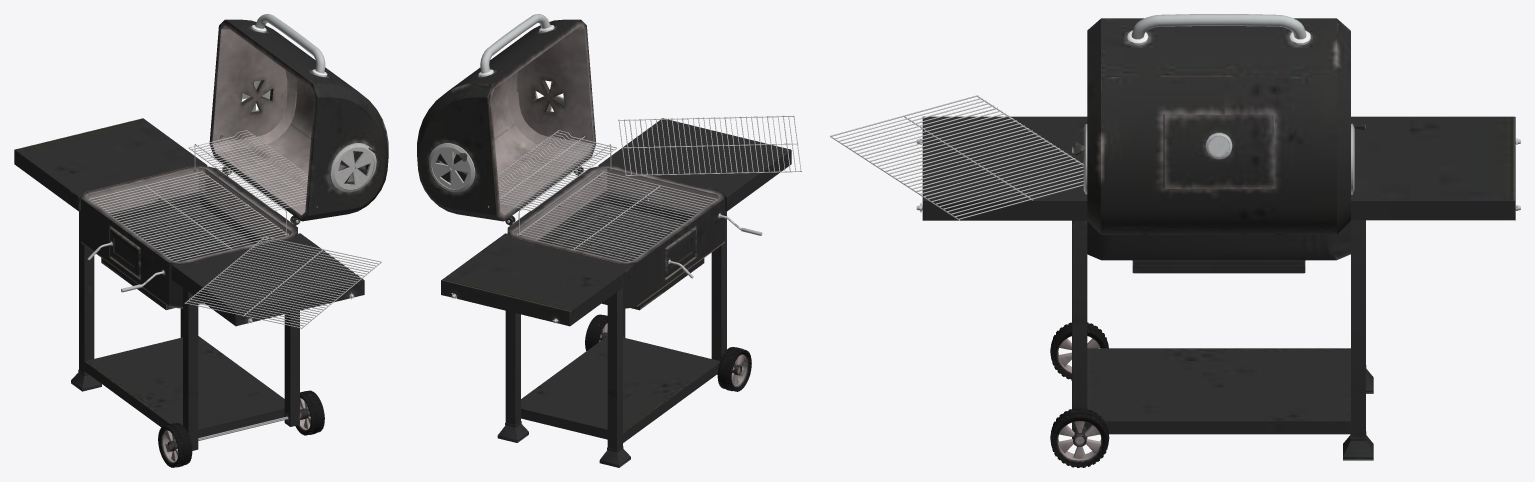
The model's file is grill.glb.
3 renders of one model, left to right at view 1: azimuth 30°, elevation 25°; view 2: azimuth 150°, elevation 25°; view 3: azimuth 270°, elevation 25°, orthographic. The views are drawn at different scales.
Parts seen in each view (by area): view 1: Barbecue; view 2: Barbecue; view 3: Barbecue.
Boxes of the visible parts, <box> form: Barbecue: <box>14,14,388,467</box>; Barbecue: <box>417,14,801,467</box>; Barbecue: <box>830,14,1520,467</box>.
Bounding box in the file's own units: 4.74 × 6.07 × 8.02.
1 material, 1 textured.
